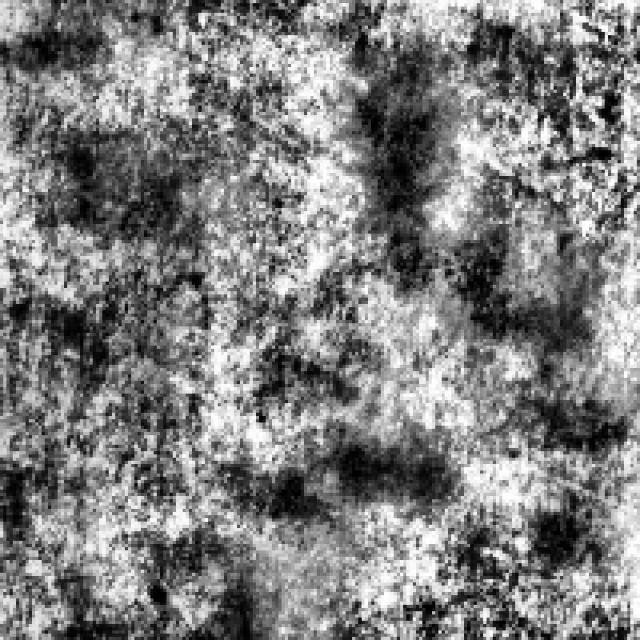Scratches: (358, 208, 589, 365), (326, 35, 464, 253), (224, 412, 448, 538), (42, 128, 198, 253), (115, 518, 269, 634), (0, 0, 125, 77)
